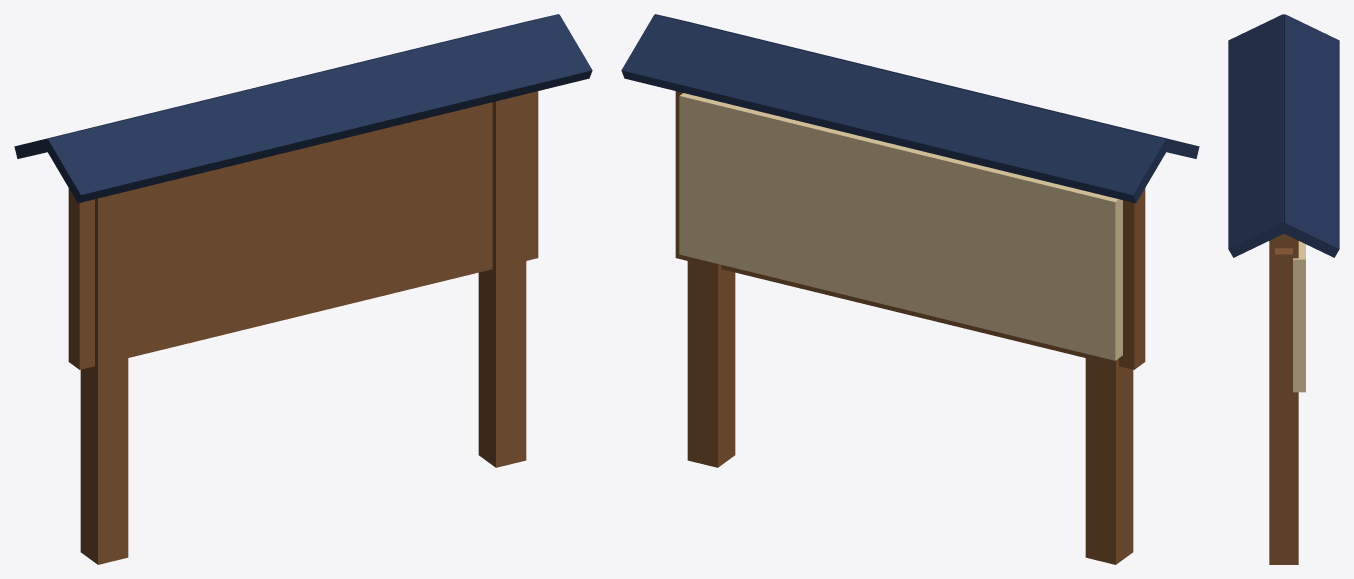
The model's file is sign.glb.
3 renders of one model, left to right at view 1: azimuth 30°, elevation 25°; view 2: azimuth 150°, elevation 25°; view 3: azimuth 270°, elevation 25°, orthographic. The views are drawn at different scales.
Parts seen in each view (by area): view 1: Wood_8A5A34, Roof_24365A; view 2: Plank_E8D2A6, Roof_24365A, Wood_8A5A34; view 3: Roof_24365A, Wood_8A5A34, Plank_E8D2A6.
Part boxes in pixels (<box>): Wood_8A5A34: <box>68,91,538,564</box>; Roof_24365A: <box>14,14,592,203</box>; Plank_E8D2A6: <box>679,93,1122,360</box>; Roof_24365A: <box>621,14,1199,203</box>; Wood_8A5A34: <box>675,91,1145,564</box>; Roof_24365A: <box>1228,14,1339,257</box>; Wood_8A5A34: <box>1269,234,1298,564</box>; Plank_E8D2A6: <box>1293,241,1305,392</box>.
Bounding box in the file's own units: 9.64 × 7.74 × 2.17.
